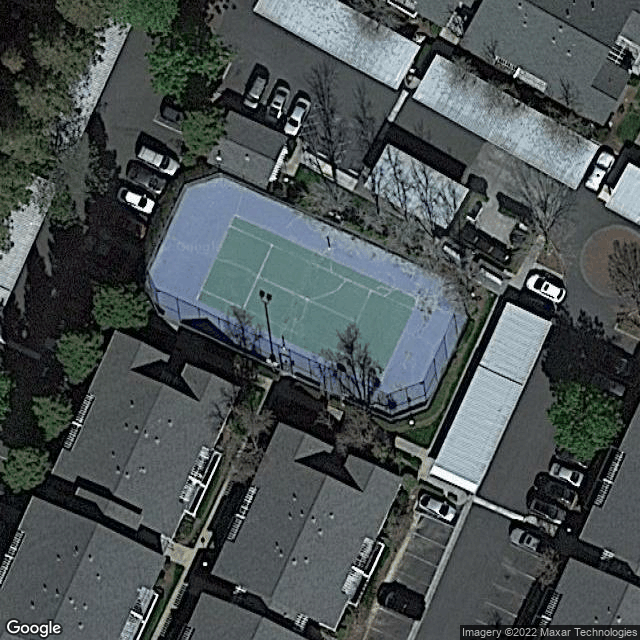Court: (196, 214, 420, 384)
